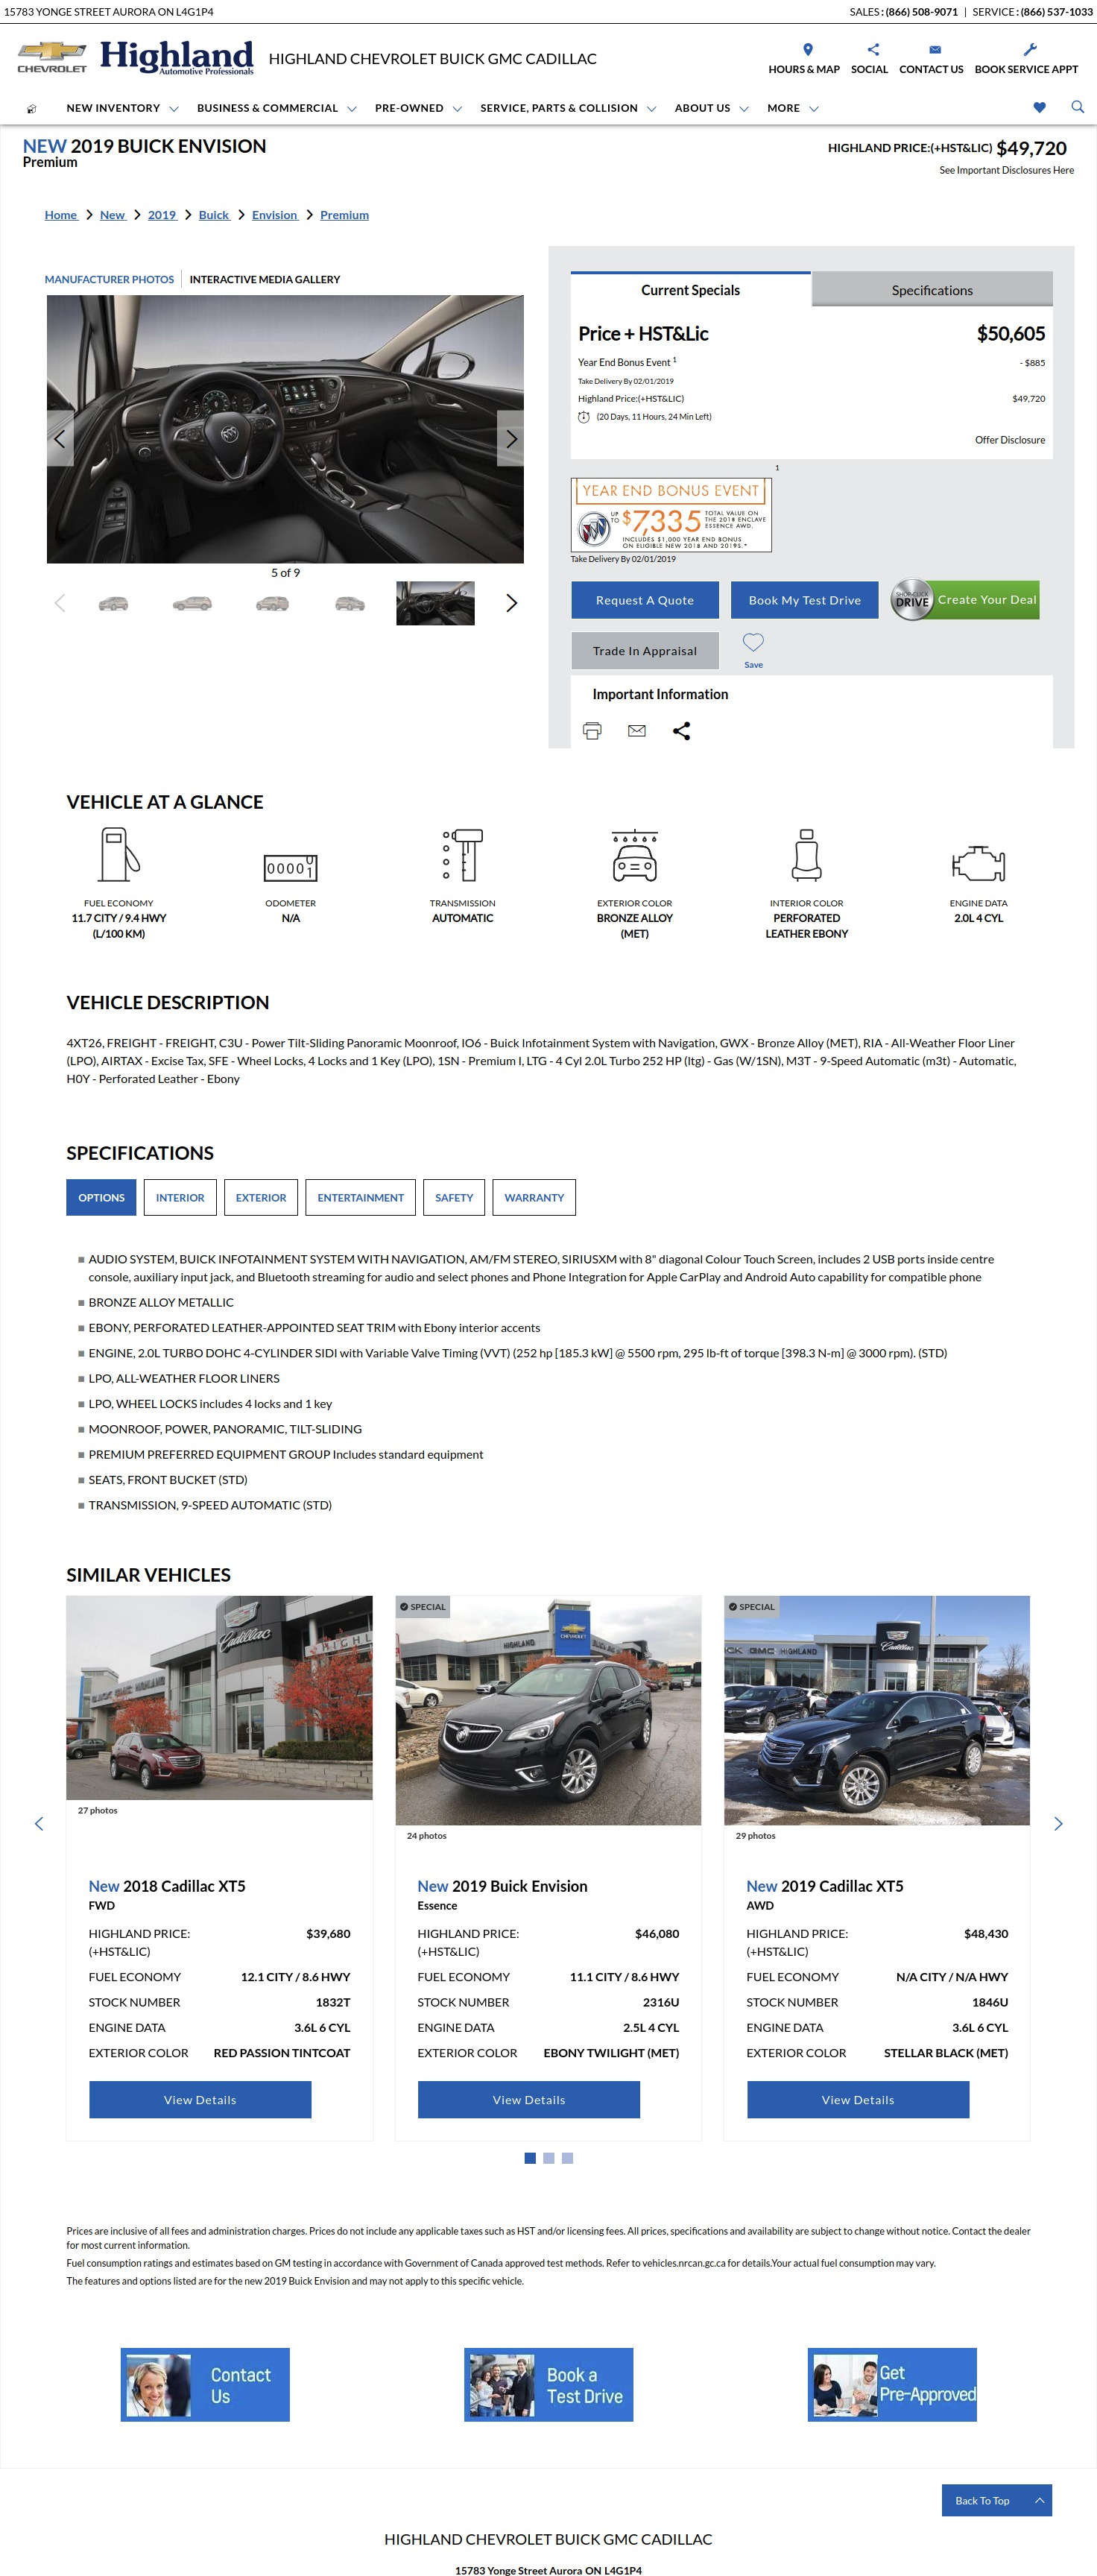car: (507, 595, 519, 613)
